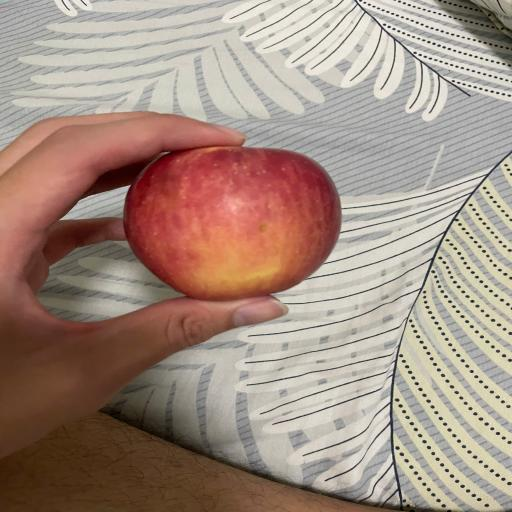apple: (124, 146, 341, 301)
